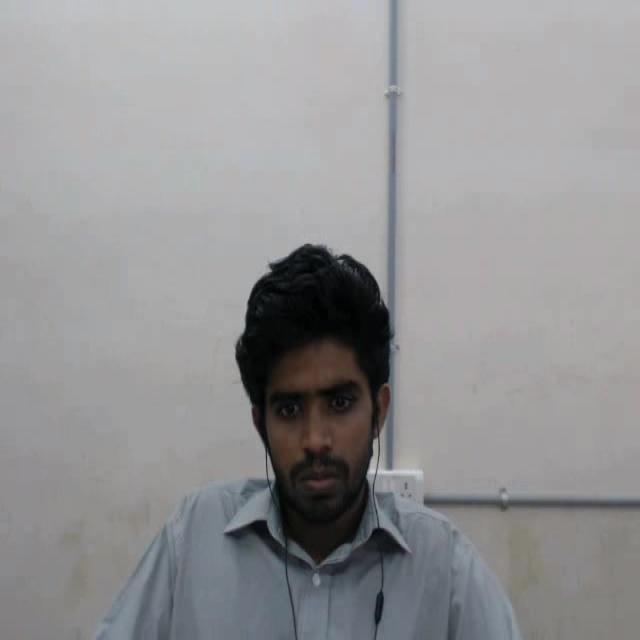Engaged: (190, 220, 419, 564)
